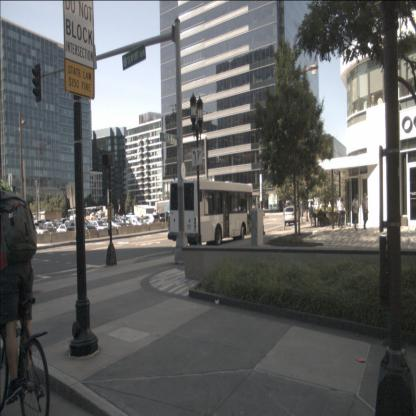human-pedestrian-adult: (352, 194, 360, 230), (336, 197, 344, 229), (362, 192, 368, 230), (308, 203, 314, 225), (327, 201, 332, 223), (333, 201, 338, 223), (322, 202, 326, 222), (320, 202, 324, 222)
movable_object-barrier: (50, 230, 76, 243), (75, 228, 98, 241), (28, 232, 50, 244), (97, 227, 117, 238), (116, 224, 134, 236), (134, 224, 149, 233), (149, 222, 162, 231), (162, 221, 175, 229), (85, 215, 90, 220), (90, 215, 95, 220)
vehicle-bicycle: (0, 179, 50, 415)
vehicle-bus-rigid: (168, 179, 254, 246)
vehicle-car: (66, 219, 96, 238), (100, 216, 125, 233), (283, 205, 301, 226), (138, 214, 160, 229), (88, 220, 109, 235), (127, 216, 147, 231), (151, 212, 169, 228), (115, 218, 134, 232), (56, 224, 73, 235), (36, 225, 50, 238), (308, 198, 318, 215), (46, 221, 59, 234), (60, 218, 69, 226), (32, 223, 40, 230)
